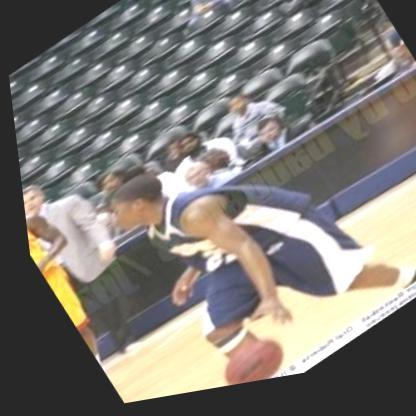basketball: (195, 322, 290, 394)
